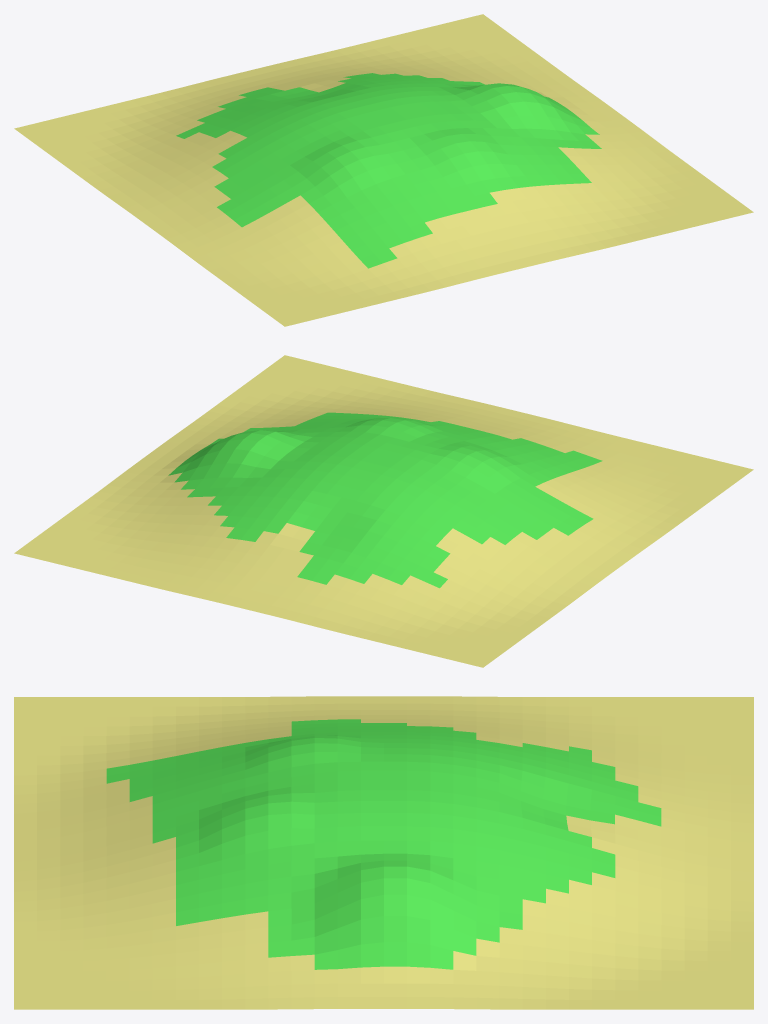
Rendered from FakeIsland.glb.
3 renders of one model, top to bottom at view 1: azimuth 30°, elevation 25°; view 2: azimuth 150°, elevation 25°; view 3: azimuth 270°, elevation 25°, orthographic. The views are drawn at different scales.
Parts seen in each view (by area): view 1: Plane; view 2: Plane; view 3: Plane.
Part boxes in pixels (<box>): Plane: <box>14,14,753,326</box>; Plane: <box>14,355,753,667</box>; Plane: <box>14,696,753,1009</box>.
Bounding box in the file's own units: 2 × 0.2174 × 2.
